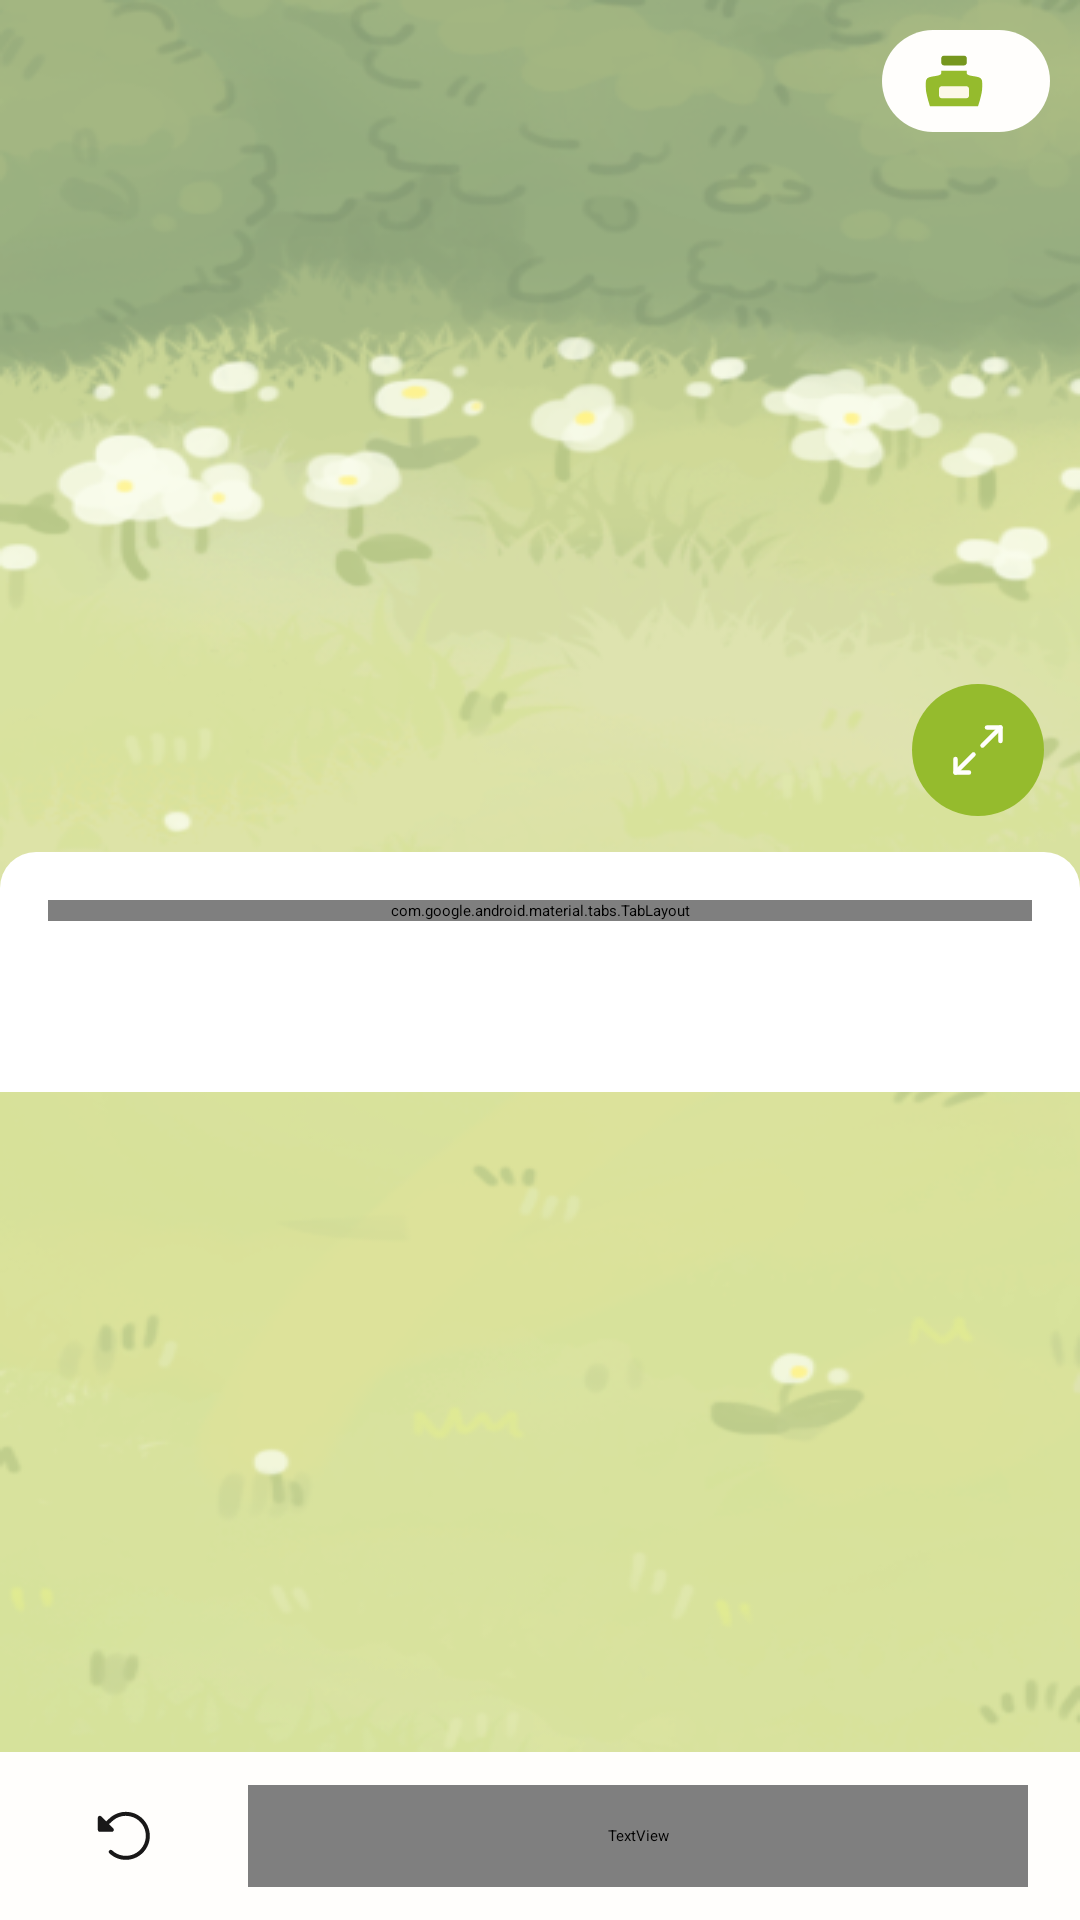

Icons on this 1080x1920 Android screen, each with the point to tap as (x=x, y=y):
arrow out: (x=978, y=750)
ink: (x=954, y=81)
reset: (x=123, y=1835)
